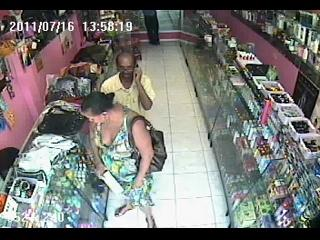Normal: (79, 91, 157, 226), (100, 50, 156, 115), (142, 10, 160, 46)
